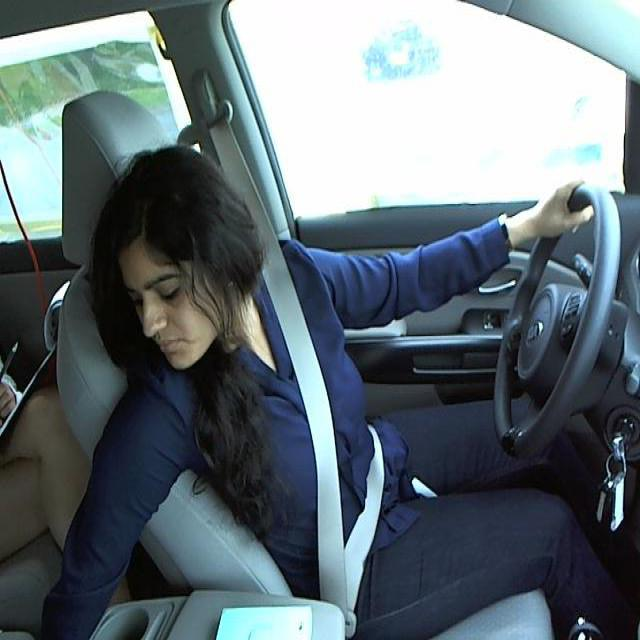seatbelt: (265, 259, 391, 589)
